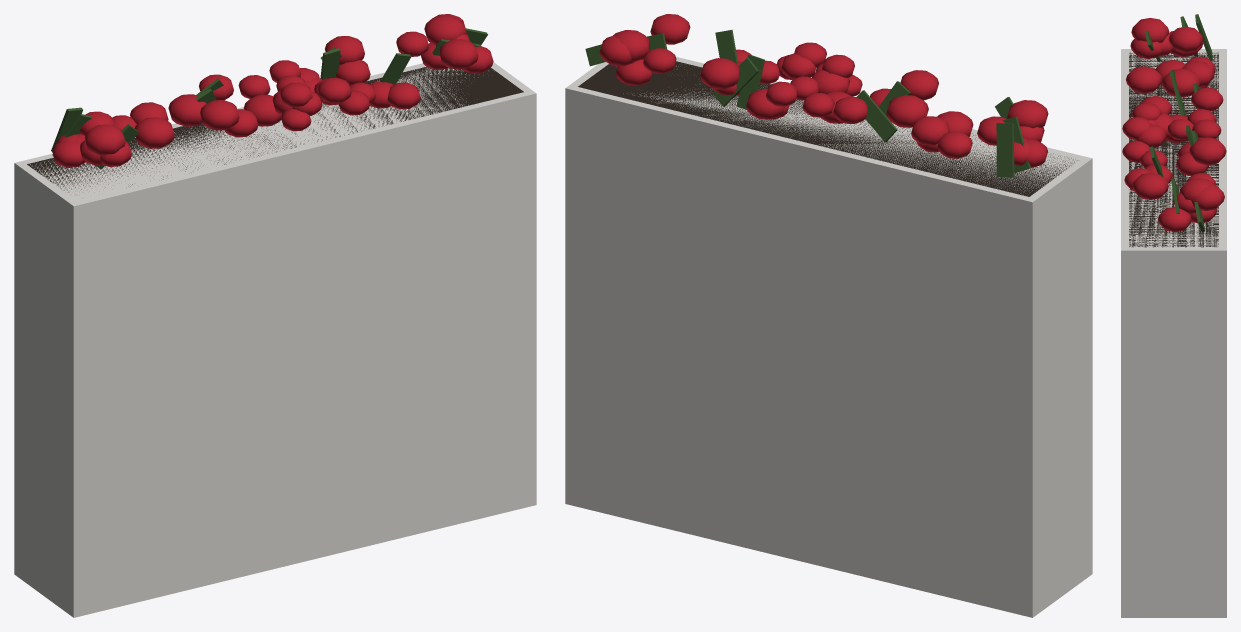
Rendered from floral-stand-431.glb.
3 views of the same model, side by side, from view 1: azimuth 30°, elevation 25°; view 2: azimuth 150°, elevation 25°; view 3: azimuth 270°, elevation 25° (orthographic). The views are drawn at different scales.
Visible parts, largest first — view 1: planter_box, soil, flower_27, flower_18, flower_6, flower_33, flower_2, flower_15, flower_17, flower_37, flower_26, flower_11; view 2: planter_box, soil, flower_2, flower_37, leaf_2, flower_33, flower_27, flower_38, flower_6, leaf_3, flower_1, flower_23 (+3 smaller); view 3: planter_box, soil, flower_37, flower_6, flower_33, flower_2, flower_9, flower_27, flower_12, flower_39, flower_1, flower_10 (+23 smaller).
Boxes of the visible parts, x1,y1,x2,y2 form: planter_box: (14,62,536,617); soil: (27,66,523,192); flower_27: (84,124,125,155); flower_18: (134,117,174,148); flower_6: (200,100,239,130); flower_33: (439,39,478,69); flower_2: (168,94,206,126); flower_15: (424,15,466,45); flower_17: (243,94,281,126); flower_37: (325,36,364,64); flower_26: (387,82,420,109); flower_11: (318,77,351,103); planter_box: (565,57,1092,617); soil: (578,61,1077,196); flower_2: (886,95,928,127); flower_37: (700,58,740,89); leaf_2: (996,123,1014,177); flower_33: (650,14,690,44); flower_27: (1007,100,1048,128); flower_38: (911,116,949,145); flower_6: (900,70,938,100); leaf_3: (856,90,897,142); flower_1: (833,96,867,123); flower_23: (937,131,972,158); planter_box: (1121,49,1226,617); soil: (1129,52,1218,247); flower_37: (1189,137,1226,165); flower_6: (1126,66,1162,93); flower_33: (1132,172,1168,199); flower_2: (1162,68,1200,97); flower_9: (1168,26,1203,52); flower_27: (1131,18,1169,42); flower_12: (1158,207,1191,232); flower_39: (1191,184,1224,210); flower_1: (1191,87,1223,111); flower_10: (1176,152,1209,176).
Bounding box in the file's own units: 0.9 × 0.8712 × 0.2.
